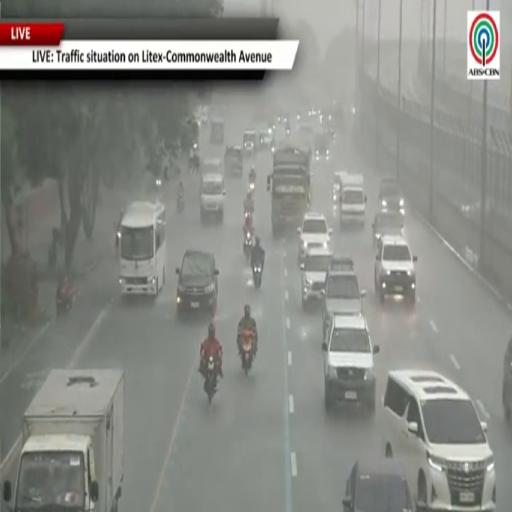bus: (119, 201, 166, 297)
car: (382, 370, 495, 511), (322, 315, 379, 411), (343, 457, 414, 511), (322, 256, 366, 338), (375, 236, 417, 303), (176, 250, 218, 316), (301, 248, 332, 310), (298, 213, 332, 263), (200, 173, 226, 222), (372, 212, 404, 247), (340, 185, 366, 228), (378, 178, 405, 215), (502, 338, 511, 423), (225, 146, 243, 177), (333, 171, 347, 205), (315, 133, 332, 161), (210, 118, 224, 145), (243, 131, 258, 154), (259, 131, 273, 149)
motorcycle: (241, 330, 254, 375), (204, 356, 216, 403), (56, 290, 74, 316), (243, 231, 253, 261), (253, 265, 262, 290), (114, 223, 121, 253), (177, 194, 184, 213), (245, 210, 252, 220), (249, 181, 255, 191), (156, 179, 161, 188), (286, 127, 290, 137)
truck: (3, 370, 124, 511), (267, 147, 311, 236)
